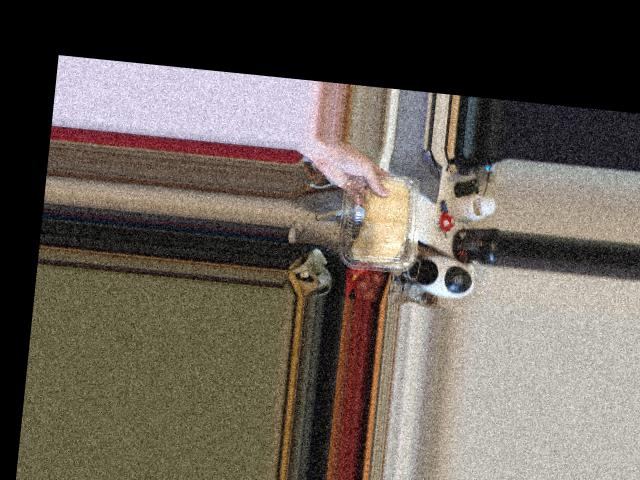cheese: (332, 173, 431, 267)
